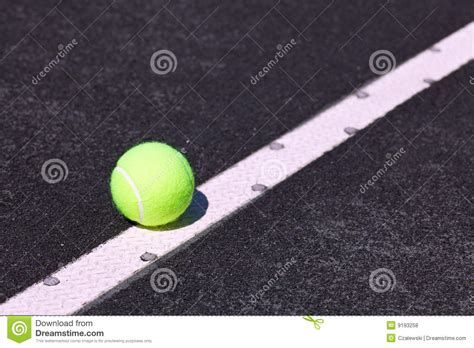tennis_ball: (109, 140, 196, 228)
